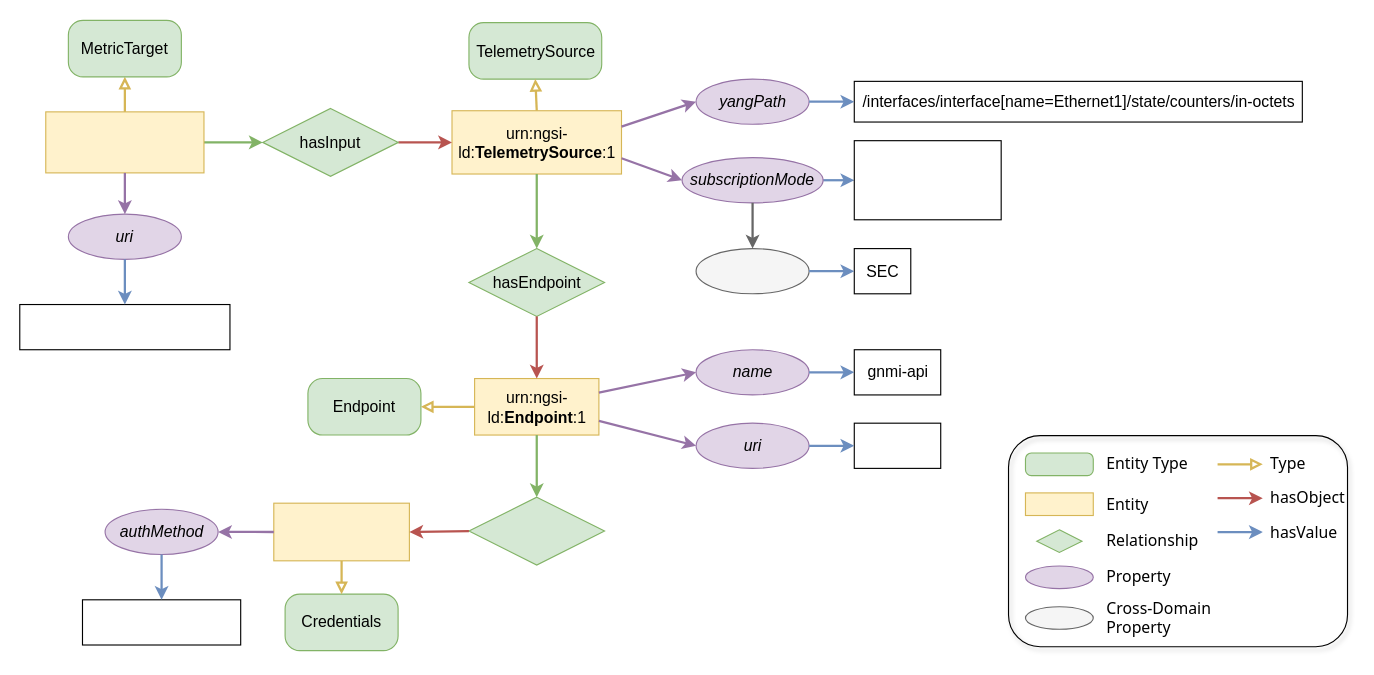
This 1374x675 diagram has some shape labels left out. Each missing label, with the centre of its shape:
"Certificate" / "User-Password": pixel 161 622
ceos:6030: pixel 897 445
hasLogin: pixel 536 530
http://consumer:8080/notify: pixel 124 326
unitCode: pixel 752 270
urn:ngsi-ld: Credentials :1: pixel 341 531
urn:ngsi-ld: Metric Target :1: pixel 124 142
{ "mode": "sample", "interval": "5" }: pixel 927 180
